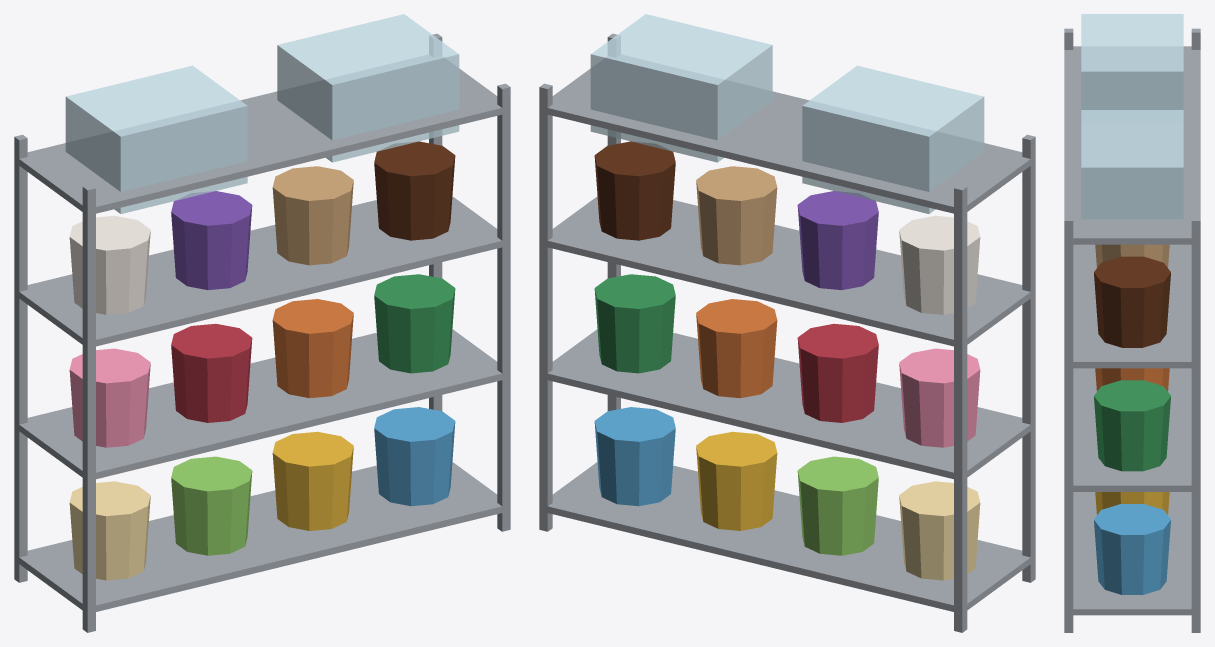
The model's file is cold_shelf.glb.
3 views of the same model, side by side, from view 1: azimuth 30°, elevation 25°; view 2: azimuth 150°, elevation 25°; view 3: azimuth 270°, elevation 25° (orthographic). The views are drawn at different scales.
Visible parts, largest first — view 1: racks_rack_steel, ice_ice_block, posts_rack_steel, tubs_3, tubs_8, tubs_10, tubs_9, tubs_5, tubs_11, tubs_6, tubs_1, tubs_7 (+3 smaller); view 2: racks_rack_steel, ice_ice_block, posts_rack_steel, tubs_3, tubs_8, tubs_10, tubs_9, tubs_5, tubs_11, tubs_6, tubs_1, tubs_7 (+3 smaller); view 3: racks_rack_steel, ice_ice_block, posts_rack_steel, tubs_11, tubs_1, tubs_9, tubs_10, tubs_8, tubs_6.
Boxes of the visible parts, <box> form: racks_rack_steel: <box>14,55,510,613</box>; ice_ice_block: <box>65,14,459,213</box>; posts_rack_steel: <box>14,33,510,632</box>; tubs_3: <box>171,456,252,555</box>; tubs_8: <box>272,299,353,398</box>; tubs_10: <box>272,166,353,265</box>; tubs_9: <box>374,407,455,506</box>; tubs_5: <box>171,323,252,422</box>; tubs_11: <box>374,274,455,373</box>; tubs_6: <box>272,431,353,530</box>; tubs_1: <box>374,141,455,240</box>; tubs_7: <box>171,191,252,289</box>; racks_rack_steel: <box>539,55,1035,613</box>; ice_ice_block: <box>590,14,984,213</box>; posts_rack_steel: <box>539,33,1035,632</box>; tubs_3: <box>797,456,878,555</box>; tubs_8: <box>696,299,777,398</box>; tubs_10: <box>696,166,777,265</box>; tubs_9: <box>594,407,675,506</box>; tubs_5: <box>797,323,878,422</box>; tubs_11: <box>594,274,675,373</box>; tubs_6: <box>696,431,777,530</box>; tubs_1: <box>594,141,675,240</box>; tubs_7: <box>797,191,878,289</box>; racks_rack_steel: <box>1064,46,1200,615</box>; ice_ice_block: <box>1081,14,1183,219</box>; posts_rack_steel: <box>1064,28,1200,632</box>; tubs_11: <box>1094,380,1170,471</box>; tubs_1: <box>1094,256,1170,347</box>; tubs_9: <box>1094,504,1170,594</box>; tubs_10: <box>1095,244,1169,267</box>; tubs_8: <box>1095,368,1169,391</box>; tubs_6: <box>1095,492,1169,514</box>.
Bounding box in the file's own units: 2 × 2.16 × 0.6.
